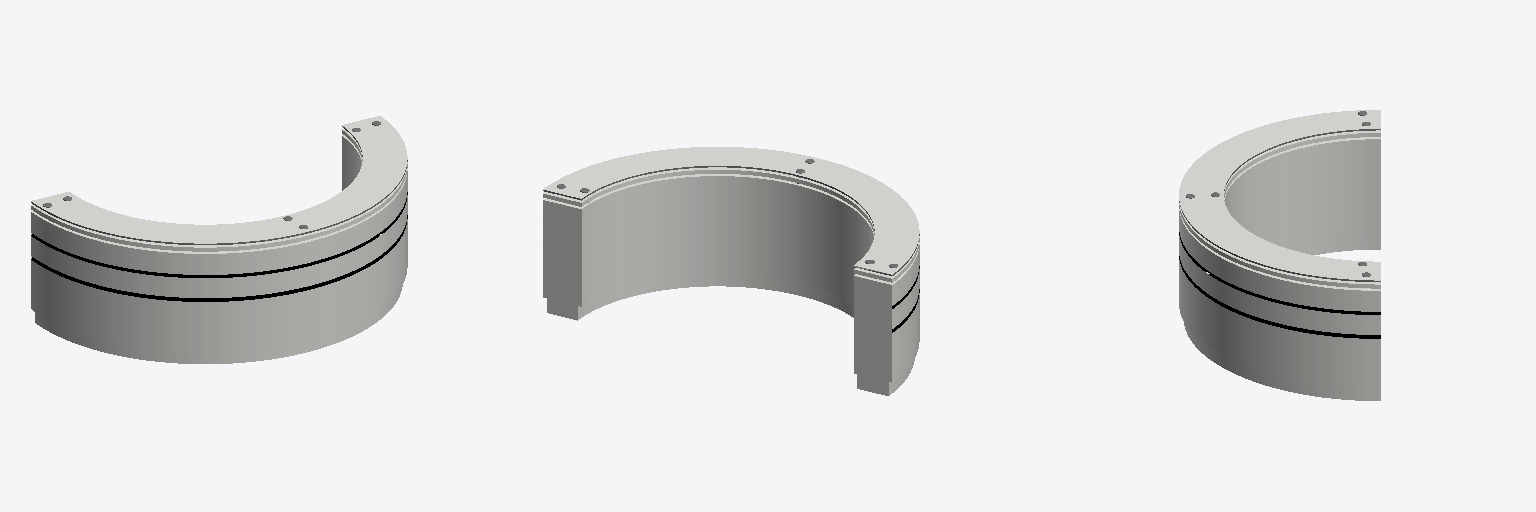
3 renders of one model, left to right at view 1: azimuth 30°, elevation 25°; view 2: azimuth 150°, elevation 25°; view 3: azimuth 270°, elevation 25°, orthographic.
Parts seen in each view (by area): view 1: Mesh; view 2: Mesh; view 3: Mesh.
Part boxes in pixels (bbox=[...]): Mesh: bbox=[31, 116, 407, 363]; Mesh: bbox=[543, 147, 919, 395]; Mesh: bbox=[1179, 110, 1380, 400].
Bounding box in the file's own units: 11.02 × 3.72 × 5.51.
Materials: 3 (1 with a texture image).